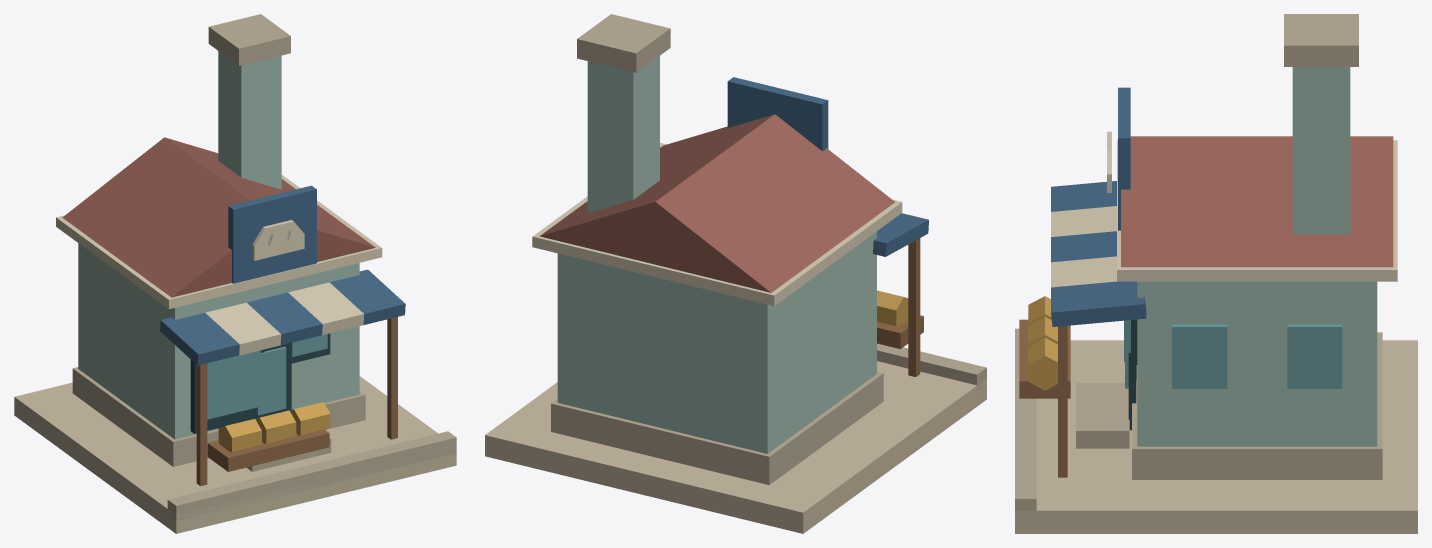
File: bakery-seabreeze-complete.glb
3 views of the same model, side by side, from view 1: azimuth 30°, elevation 25°; view 2: azimuth 150°, elevation 25°; view 3: azimuth 270°, elevation 25° (orthographic). The views are drawn at different scales.
Parts seen in each view (by area): view 1: bakery; view 2: bakery; view 3: bakery.
Part boxes in pixels (x1,y1,x2,y2): bakery: (14,14,456,533); bakery: (485,14,986,533); bakery: (1015,14,1417,533).
Size of the model in its own units: 1.88 by 2.34 by 1.88.
